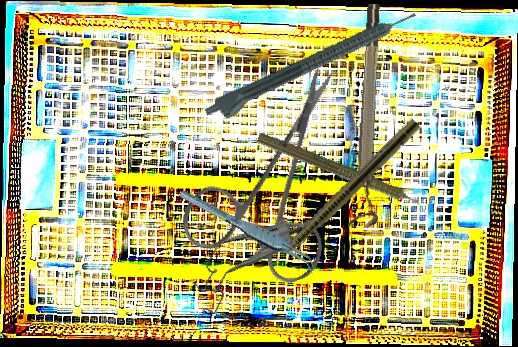Fixation Ring: (348, 3, 393, 229)
Handpiece: (202, 6, 423, 129), (262, 115, 422, 276), (253, 128, 436, 220)
Iris Scissors: (147, 65, 397, 312)
Speculum: (179, 178, 328, 345)
Tissue Forceps: (177, 174, 321, 286)
